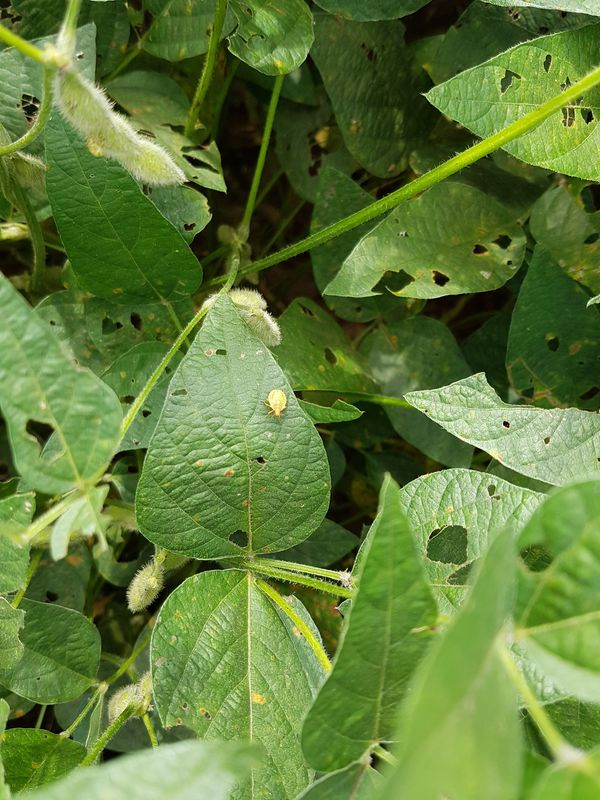Euschistus_heros_ninfa: (256, 381, 302, 428)
